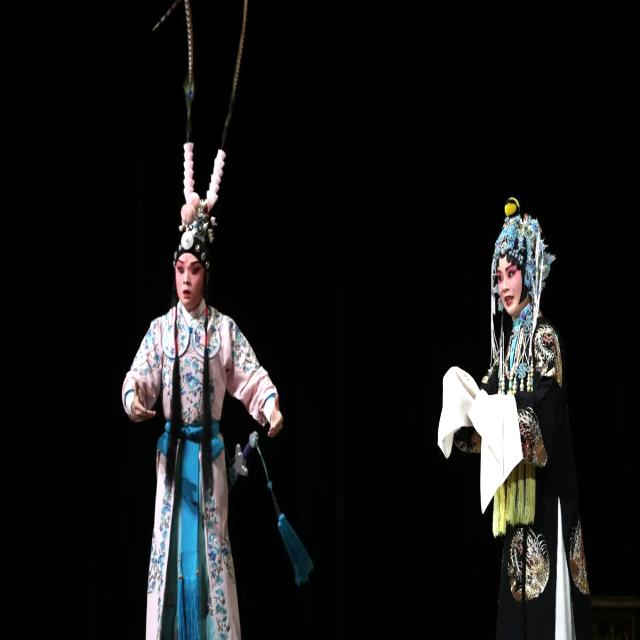Reeves-s Pheasant: (153, 0, 195, 142), (220, 0, 248, 150)
